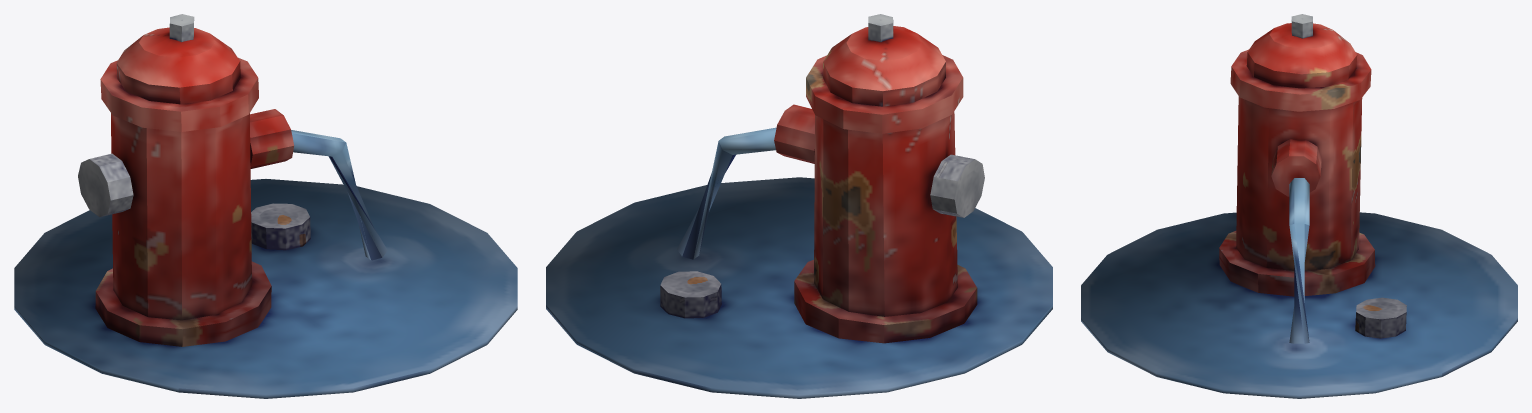
File: HydrantLeaking.glb
3 views of the same model, side by side, from view 1: azimuth 30°, elevation 25°; view 2: azimuth 150°, elevation 25°; view 3: azimuth 270°, elevation 25° (orthographic). The views are drawn at different scales.
Parts seen in each view (by area): view 1: Water, Body, Nozzles; view 2: Water, Body, Nozzles; view 3: Water, Body, Nozzles.
Part boxes in pixels (x1,y1,x2,y2): Water: (14, 130, 517, 398); Body: (95, 27, 294, 346); Nozzles: (78, 14, 310, 250); Water: (546, 127, 1052, 398); Body: (774, 26, 977, 343); Nozzles: (660, 14, 984, 318); Water: (1081, 178, 1517, 398); Body: (1219, 23, 1375, 296); Nozzles: (1291, 14, 1406, 338).
Bounding box in the file's own units: 2.2 × 1.38 × 2.17.
Materials: 3 (3 with a texture image).
